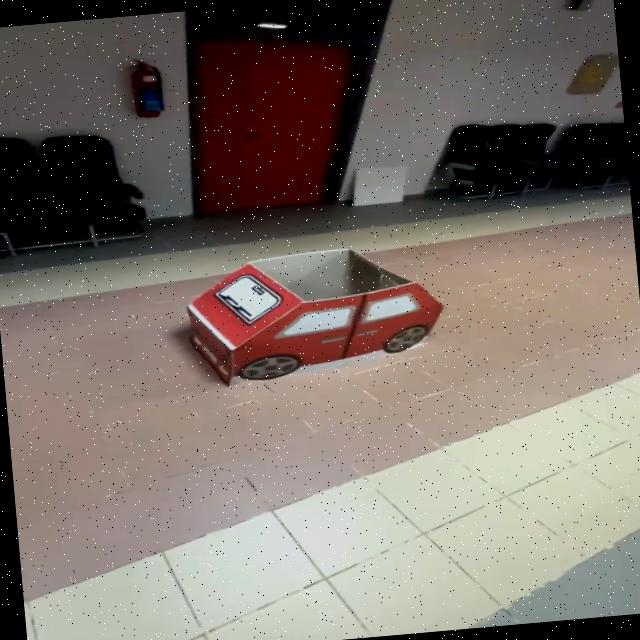red_car: (162, 229, 477, 423)
